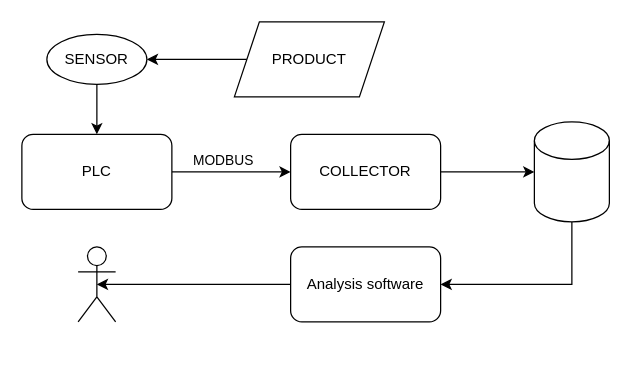
Image size: 631x370. Some labels were removed from this diagram. The centre of each missing label's shape, as x and y in pixels:
Actor: point 96,284
DB: point 571,171
